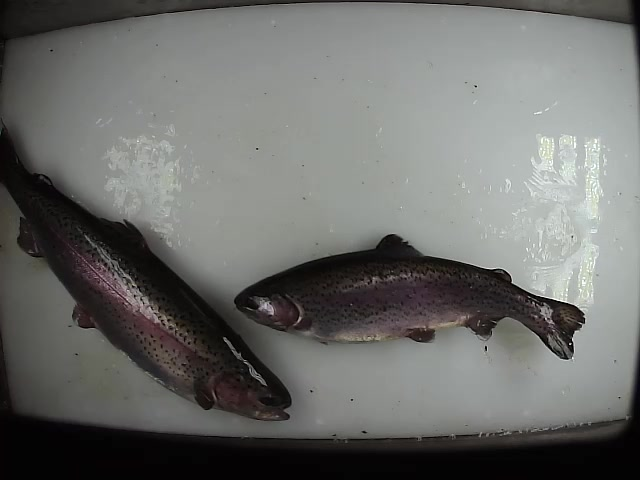fish: (1, 115, 294, 425), (231, 231, 588, 361)
